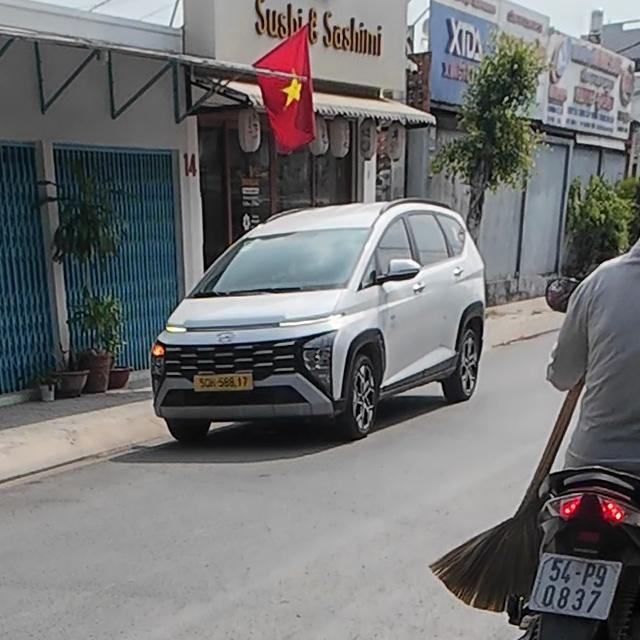license-plate: (530, 553, 620, 619), (195, 375, 252, 390)
